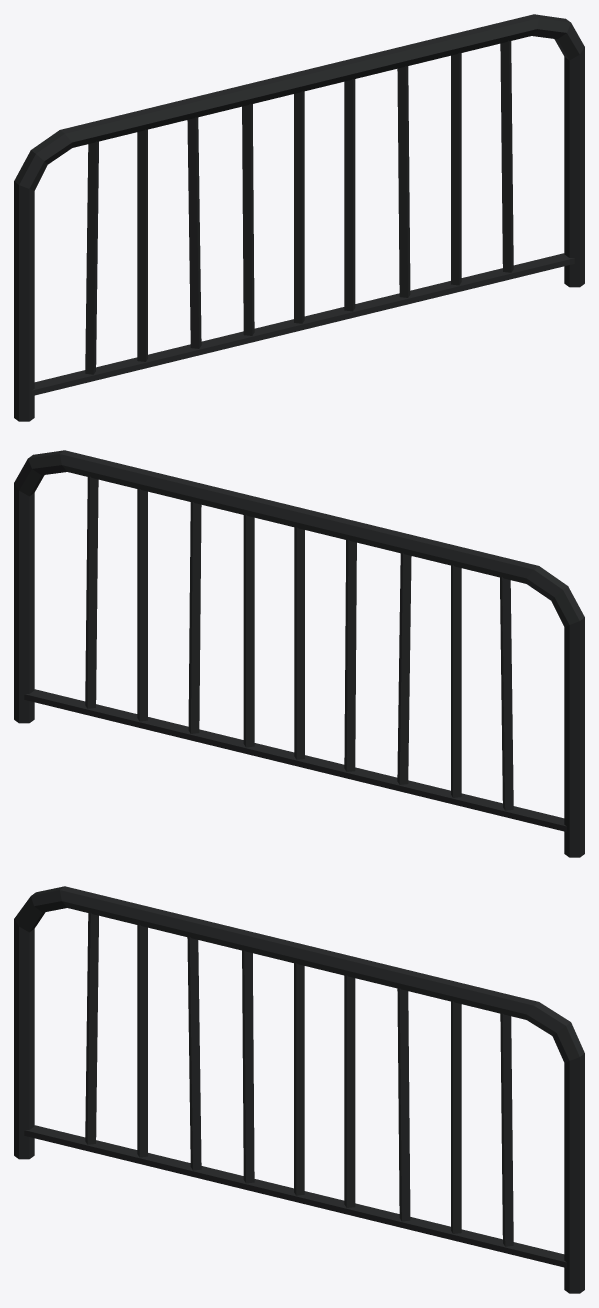
The model's file is SM_Bld_Rail_01.glb.
3 views of the same model, one above another, from view 1: azimuth 30°, elevation 25°; view 2: azimuth 150°, elevation 25°; view 3: azimuth 330°, elevation 25° (orthographic).
Visible parts, largest first — view 1: SM_Bld_Rail_01; view 2: SM_Bld_Rail_01; view 3: SM_Bld_Rail_01.
Part boxes in pixels (x1,y1,x2,y2): SM_Bld_Rail_01: (14,14,584,421); SM_Bld_Rail_01: (14,450,584,857); SM_Bld_Rail_01: (14,886,584,1293).
Bounding box in the file's own units: 247 × 116 × 7.79.
Materials: 1 (1 with a texture image).
